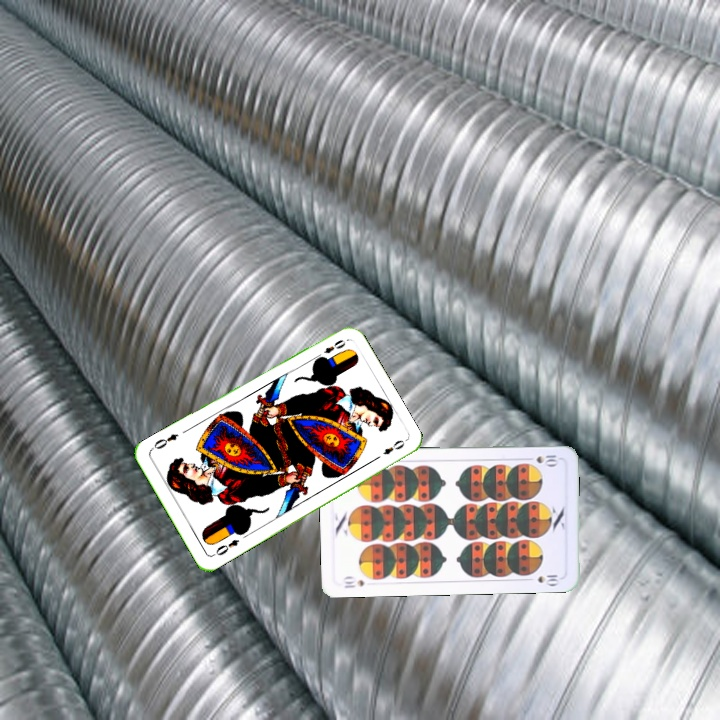EO: (311, 335, 348, 362), (209, 535, 242, 559)
S10: (339, 573, 367, 591), (533, 451, 562, 467)
